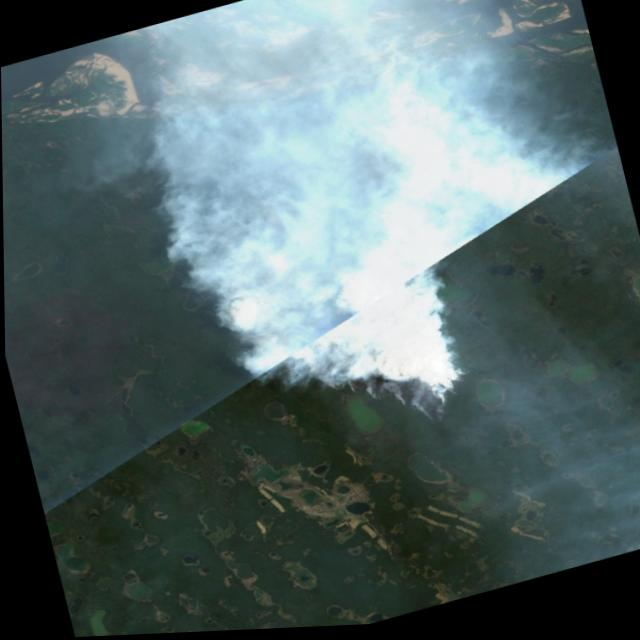fire: (202, 187, 474, 476)
